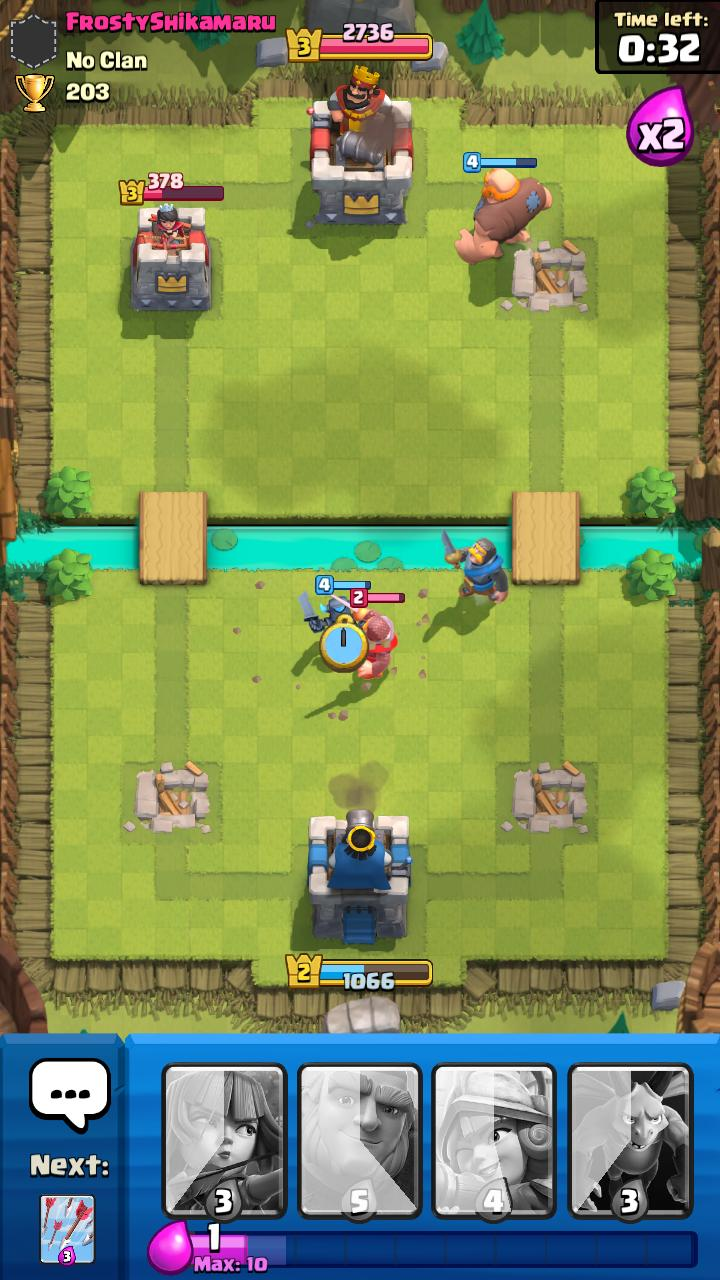ally: (454, 152, 553, 265), (442, 529, 508, 603), (297, 575, 371, 633)
enemy: (330, 588, 405, 680)
